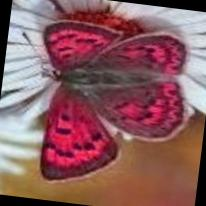butterfly: (39, 21, 190, 181)
